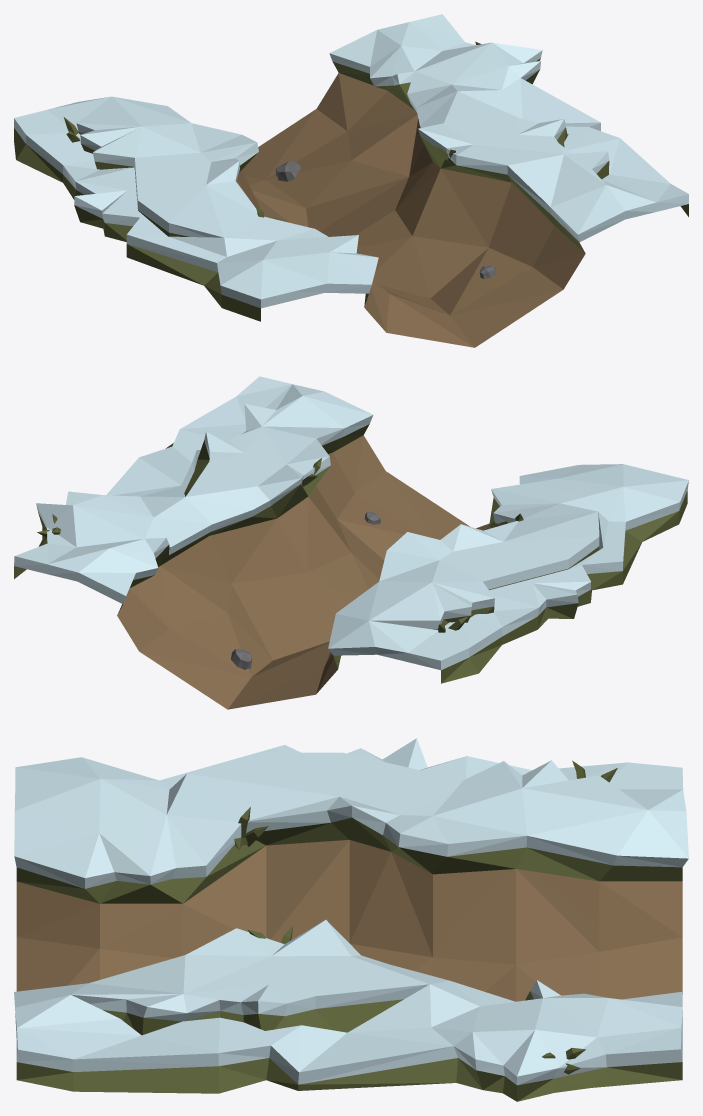
Rendered from SM_Env_Stream_Straight_01_Snow.gltf.
3 views of the same model, one above another, from view 1: azimuth 30°, elevation 25°; view 2: azimuth 150°, elevation 25°; view 3: azimuth 270°, elevation 25° (orthographic). The views are drawn at different scales.
Parts seen in each view (by area): view 1: SM_Env_Stream_Straight_01_Snow; view 2: SM_Env_Stream_Straight_01_Snow; view 3: SM_Env_Stream_Straight_01_Snow.
Boxes of the visible parts, left/top/right/bottom form: SM_Env_Stream_Straight_01_Snow: left=14, top=14, right=688, bottom=347; SM_Env_Stream_Straight_01_Snow: left=14, top=376, right=688, bottom=709; SM_Env_Stream_Straight_01_Snow: left=14, top=738, right=688, bottom=1101.
Bounding box in the file's own units: 5.91 × 1.38 × 5.07.
1 material, 1 textured.
